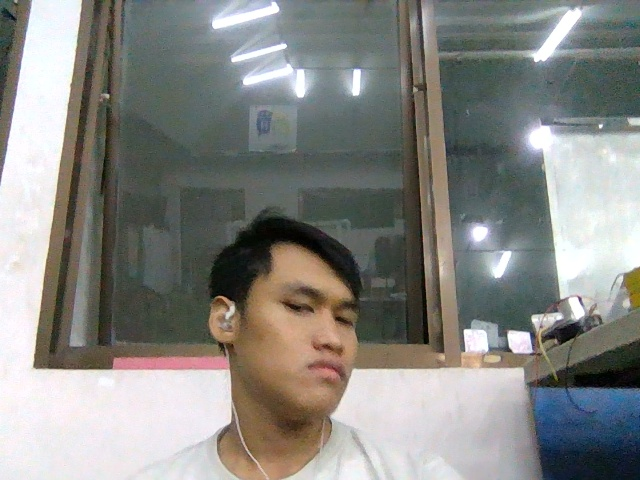mask_off: (257, 333, 358, 417)
